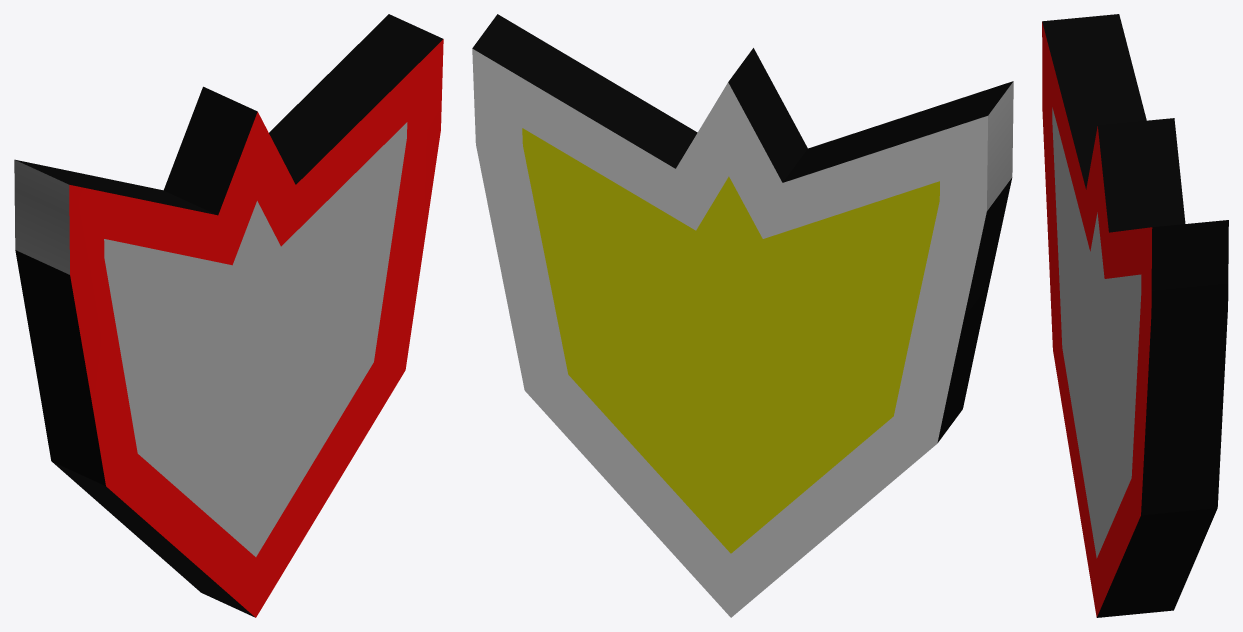
File: DefenseShield.fbx
The picture shows the model from 3 angles, left to right: view 1: azimuth 30°, elevation 25°; view 2: azimuth 150°, elevation 25°; view 3: azimuth 270°, elevation 25°; orthographic projection. The views are drawn at different scales.
Visible parts, largest first — view 1: DefenseShield; view 2: DefenseShield; view 3: DefenseShield.
Part boxes in pixels (left/top/right/bottom): DefenseShield: left=14, top=14, right=443, bottom=617; DefenseShield: left=472, top=14, right=1013, bottom=617; DefenseShield: left=1042, top=14, right=1228, bottom=617.
Bounding box in the file's own units: 9.94 × 10.78 × 3.69.
